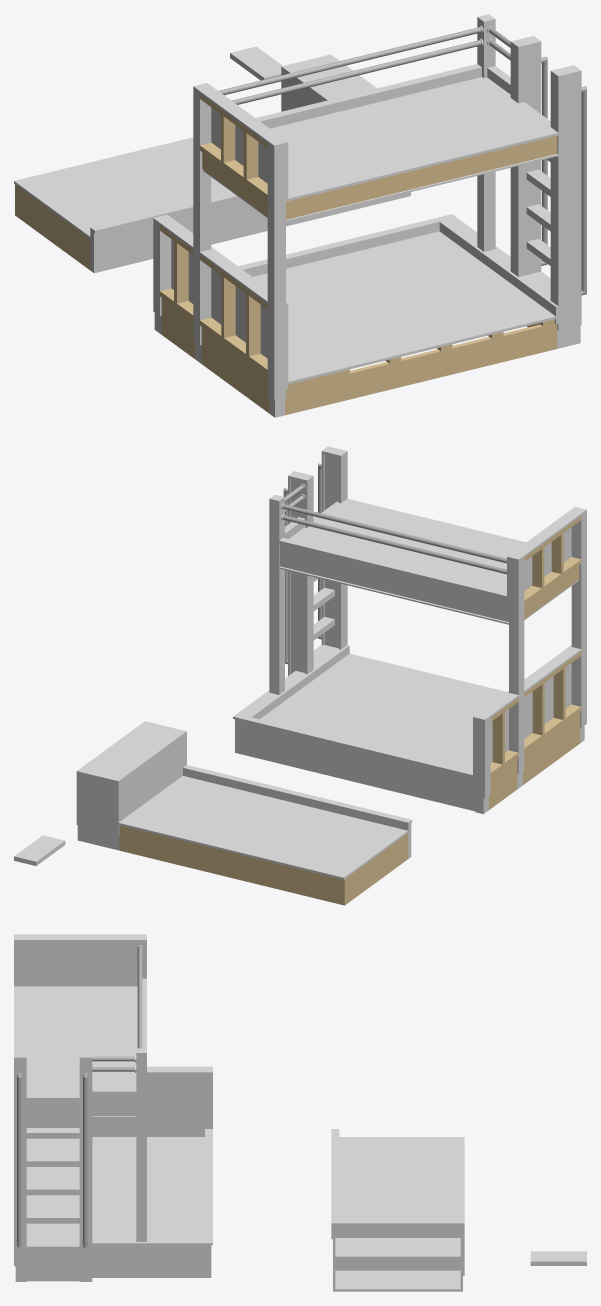
Rendered from project-painted.glb.
3 views of the same model, one above another, from view 1: azimuth 30°, elevation 25°; view 2: azimuth 150°, elevation 25°; view 3: azimuth 270°, elevation 25° (orthographic). The views are drawn at different scales.
Visible parts, largest first — view 1: queen-platform.002, twin-platform-top.002, bed-platform.002, queen-rail-side.004, twin-rail-side.004, leg.013, bed-rail-molding.001, leg.011, leg.014, ladder-leg.004, leg.015, queen-rail-head.004 (+34 smaller); view 2: queen-platform.002, bed-platform.002, twin-platform-top.002, queen-rail-side-molding.001, twin-rail-molding.004, bed-rail-side.004, leg.014, leg.012, leg.013, cabinet-back.002, cabinet-top.002, cabinet-side.008 (+27 smaller); view 3: queen-platform.002, twin-platform-top.002, bed-platform.002, twin-head.002, queen-head.002, queen-rail-foot-molding.008, cabinet-back.002, cabinet-top.002, cabinet-bottom.002, cabinet-shelf.002, leg.012, ladder-leg.005 (+20 smaller).
Boxes of the visible parts, x1,y1,x2,y2 form: queen-platform.002: [253, 231, 555, 384]; twin-platform-top.002: [270, 77, 558, 200]; bed-platform.002: [14, 137, 232, 238]; queen-rail-side.004: [285, 323, 557, 415]; twin-rail-side.004: [286, 136, 557, 219]; leg.013: [267, 144, 285, 417]; bed-rail-molding.001: [93, 198, 361, 273]; leg.011: [551, 74, 569, 348]; leg.014: [193, 89, 211, 363]; ladder-leg.004: [569, 73, 581, 345]; leg.015: [511, 45, 529, 276]; queen-rail-head.004: [201, 327, 269, 413]; queen-platform.002: [260, 653, 506, 771]; bed-platform.002: [118, 776, 408, 879]; twin-platform-top.002: [289, 498, 525, 592]; queen-rail-side-molding.001: [236, 720, 475, 811]; twin-rail-molding.004: [280, 543, 508, 621]; bed-rail-side.004: [119, 829, 340, 904]; leg.014: [509, 558, 524, 788]; leg.012: [269, 499, 284, 694]; leg.013: [571, 512, 586, 743]; cabinet-back.002: [119, 732, 185, 821]; cabinet-top.002: [78, 721, 185, 780]; cabinet-side.008: [76, 770, 119, 834]; queen-platform.002: [26, 1137, 204, 1236]; twin-platform-top.002: [14, 986, 137, 1096]; bed-platform.002: [339, 1137, 464, 1203]; twin-head.002: [14, 942, 139, 986]; queen-head.002: [26, 1074, 204, 1136]; queen-rail-foot-molding.008: [92, 1246, 211, 1277]; cabinet-back.002: [335, 1225, 460, 1270]; cabinet-top.002: [333, 1203, 462, 1225]; cabinet-bottom.002: [333, 1270, 462, 1291]; cabinet-shelf.002: [335, 1238, 460, 1258]; leg.012: [136, 1055, 146, 1241]; ladder-leg.005: [79, 1059, 90, 1281].
Size of the model in its own units: 2.55 by 2.01 by 4.65.
